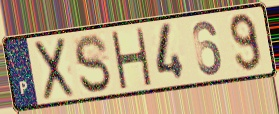4: (154, 21, 190, 86)
6: (191, 19, 224, 77)
9: (228, 11, 263, 76)
H: (108, 27, 153, 89)
S: (72, 33, 114, 95)
X: (33, 35, 77, 103)
